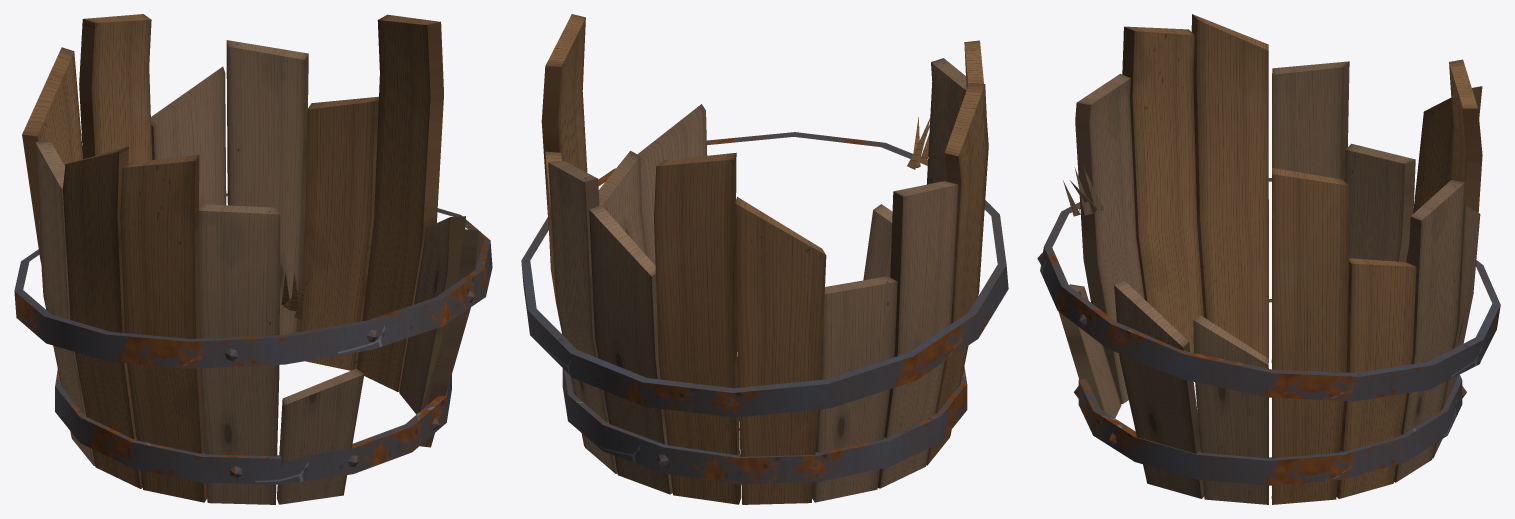
The model's file is Broken_Barrel_B.glb.
3 renders of one model, left to right at view 1: azimuth 30°, elevation 25°; view 2: azimuth 150°, elevation 25°; view 3: azimuth 270°, elevation 25°, orthographic. The views are drawn at different scales.
Parts seen in each view (by area): view 1: Broken_Barrel_B; view 2: Broken_Barrel_B; view 3: Broken_Barrel_B.
Part boxes in pixels (<box>): Broken_Barrel_B: <box>14,14,492,504</box>; Broken_Barrel_B: <box>521,14,1008,504</box>; Broken_Barrel_B: <box>1037,14,1500,504</box>.
Bounding box in the file's own units: 0.7612 × 0.6277 × 0.7648.
Materials: 2 (2 with a texture image).
